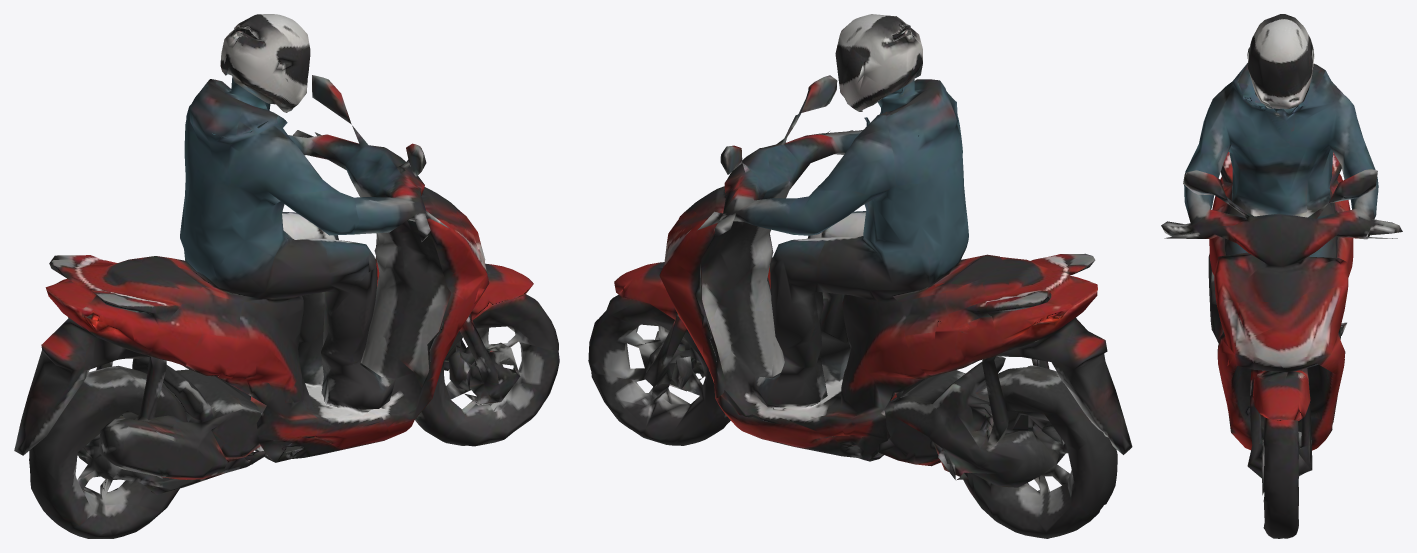
File: motor1.glb
3 views of the same model, side by side, from view 1: azimuth 30°, elevation 25°; view 2: azimuth 150°, elevation 25°; view 3: azimuth 270°, elevation 25° (orthographic). The views are drawn at different scales.
Parts seen in each view (by area): view 1: tripo_node_da8df089-5ffc-4ddb-936c-5ef8c388a9f8; view 2: tripo_node_da8df089-5ffc-4ddb-936c-5ef8c388a9f8; view 3: tripo_node_da8df089-5ffc-4ddb-936c-5ef8c388a9f8.
Part boxes in pixels (x1,y1,x2,y2): tripo_node_da8df089-5ffc-4ddb-936c-5ef8c388a9f8: (14,14,559,538); tripo_node_da8df089-5ffc-4ddb-936c-5ef8c388a9f8: (588,14,1132,538); tripo_node_da8df089-5ffc-4ddb-936c-5ef8c388a9f8: (1161,14,1402,538).
Size of the model in its own units: 0.9952 by 0.8428 by 0.4405.
1 material, 1 textured.
